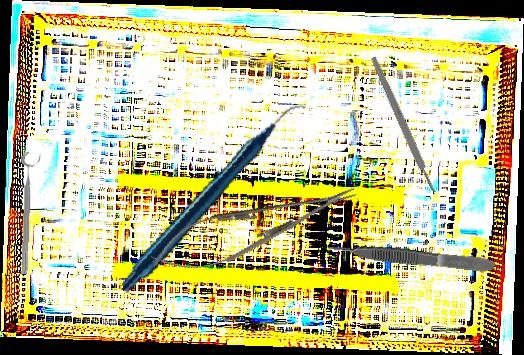Fixation Ring: (17, 152, 43, 275)
Handpiece: (94, 102, 335, 294)
Needle Holder: (144, 168, 365, 287)
Scalpel Handle: (369, 55, 437, 193)
Tissue Forceps: (327, 237, 496, 276)
